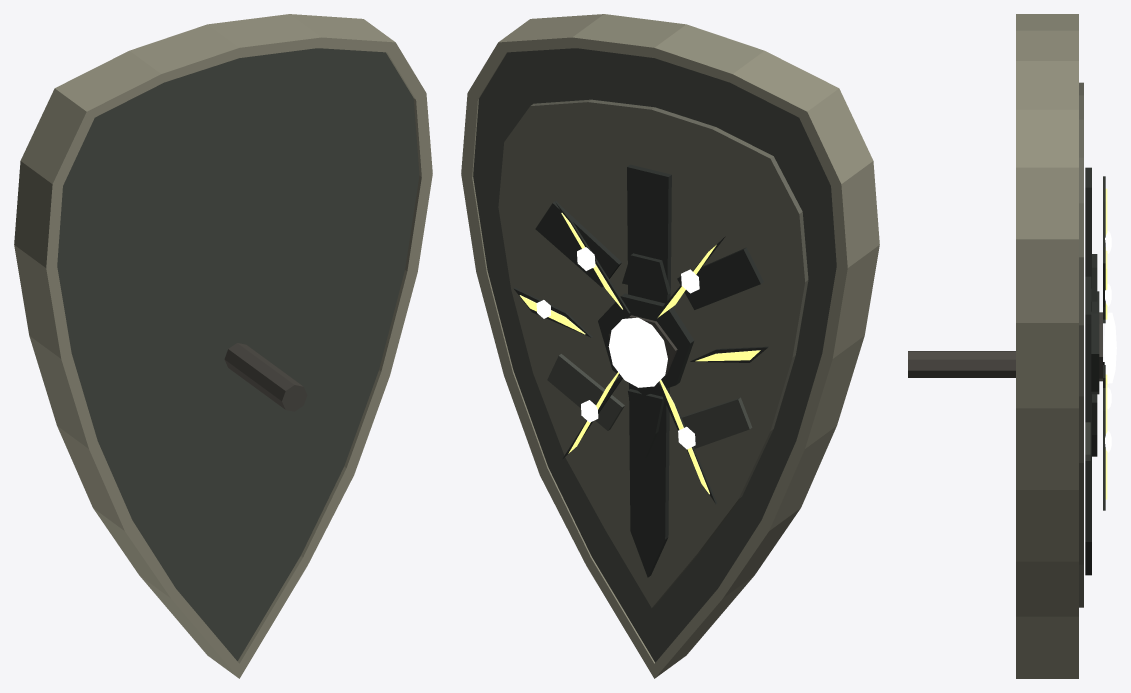
File: Blighted_Earth.fbx
3 views of the same model, side by side, from view 1: azimuth 30°, elevation 25°; view 2: azimuth 150°, elevation 25°; view 3: azimuth 270°, elevation 25° (orthographic). The views are drawn at different scales.
Visible parts, largest first — view 1: Shield_Body, Shield_Rim, Rear_Grip; view 2: Shield_InnerPlate, Shield_Body, Shield_Rim, Central_Spine, Blight_Core, Core_Setting, Upper_Left_Buttress, Upper_Right_Buttress, Lower_Right_Cheek, Lower_Left_Cheek, Core_Talon, Core_Crown; view 3: Shield_Rim, Rear_Grip, Shield_InnerPlate, Central_Spine, Core_Setting, Blight_Core, Core_Talon, Vein_LowerRight_Crack, Upper_Right_Buttress.
Boxes of the visible parts, left/top/right/bottom form: Shield_Body: left=57, top=48, right=419, bottom=660; Shield_Rim: left=14, top=14, right=432, bottom=678; Rear_Grip: left=224, top=343, right=307, bottom=411; Shield_InnerPlate: left=498, top=99, right=808, bottom=607; Shield_Body: left=473, top=48, right=836, bottom=662; Shield_Rim: left=461, top=14, right=879, bottom=678; Central_Spine: left=627, top=164, right=671, bottom=577; Blight_Core: left=608, top=317, right=667, bottom=387; Core_Setting: left=598, top=293, right=694, bottom=395; Upper_Left_Buttress: left=677, top=247, right=763, bottom=309; Upper_Right_Buttress: left=535, top=201, right=621, bottom=287; Lower_Right_Cheek: left=547, top=354, right=624, bottom=430; Lower_Left_Cheek: left=681, top=397, right=752, bottom=448; Core_Talon: left=628, top=389, right=664, bottom=458; Core_Crown: left=622, top=253, right=670, bottom=294; Shield_Rim: left=1016, top=14, right=1078, bottom=678; Rear_Grip: left=908, top=351, right=1015, bottom=377; Shield_InnerPlate: left=1079, top=82, right=1083, bottom=607; Central_Spine: left=1085, top=167, right=1091, bottom=575; Core_Setting: left=1091, top=291, right=1099, bottom=394; Blight_Core: left=1103, top=312, right=1116, bottom=383; Core_Talon: left=1092, top=394, right=1097, bottom=456; Vein_LowerRight_Crack: left=1103, top=388, right=1105, bottom=510; Upper_Right_Buttress: left=1085, top=276, right=1091, bottom=324.
Bounding box in the file's own units: 66.8 × 104 × 31.9.
